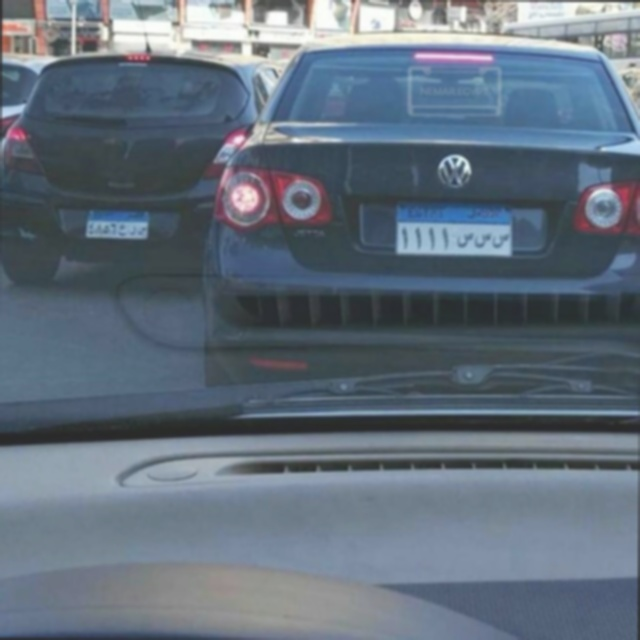License Plate: (392, 199, 515, 261), (81, 208, 152, 242)
